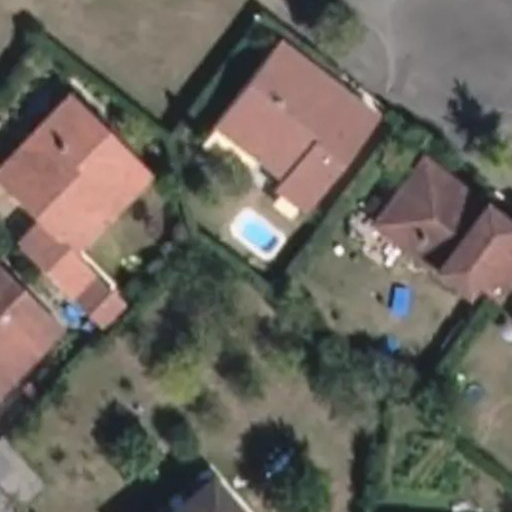pool: (231, 233, 280, 246)
